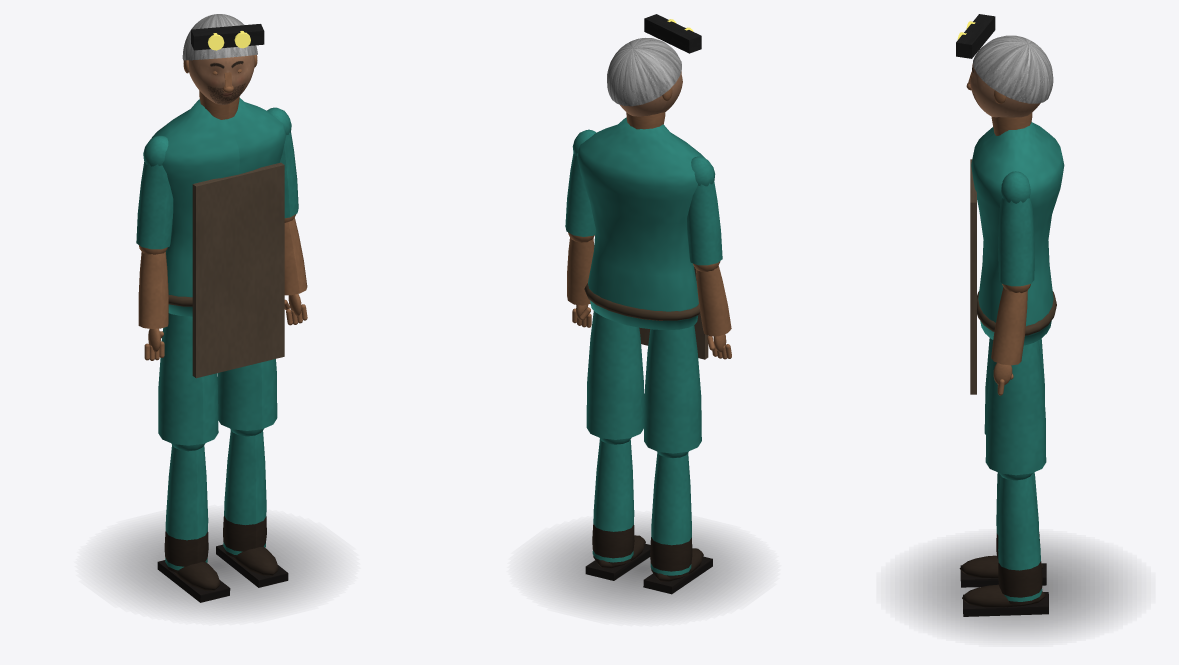
File: npc_pell.glb
3 views of the same model, side by side, from view 1: azimuth 30°, elevation 25°; view 2: azimuth 150°, elevation 25°; view 3: azimuth 270°, elevation 25° (orthographic). The views are drawn at different scales.
Parts seen in each view (by area): view 1: chest, object 11, shinL, shinR, legL, head, legR, armL, foreL, foreR, armR; view 2: chest, object 11, legL, legR, head, shinL, shinR, armL, foreL, foreR, armR; view 3: chest, object 11, shinR, head, legR, armR, foreR, shinL, legL.
Part boxes in pixels (x1,y1,x2,y2): chest: (151,90,286,378); object 11: (103,517,331,612); shinL: (157,443,230,602); shinR: (216,428,288,587); legL: (158,313,218,445); head: (182,14,264,105); legR: (217,359,277,430); armL: (136,135,173,249); foreL: (138,245,168,360); foreR: (284,214,307,325); armR: (267,107,298,218); chest: (577,112,708,359); object 11: (535,523,753,614); legL: (644,325,701,453); legR: (586,311,644,439); head: (607,14,701,116); shinL: (643,451,712,594); shinR: (585,438,650,580); armL: (687,156,722,265); foreL: (693,261,731,359); foreR: (567,232,594,327); armR: (565,129,596,236); chest: (970,112,1064,394); object 11: (904,541,1127,635); shinR: (962,473,1048,616); head: (956,14,1053,117); legR: (985,340,1046,475); armR: (998,171,1034,286); foreR: (991,284,1030,395); shinL: (959,472,1046,587); legL: (984,338,1044,434).
Bounding box in the file's own units: 0.868 × 1.8 × 0.868.
Materials: 8 (5 with a texture image).
